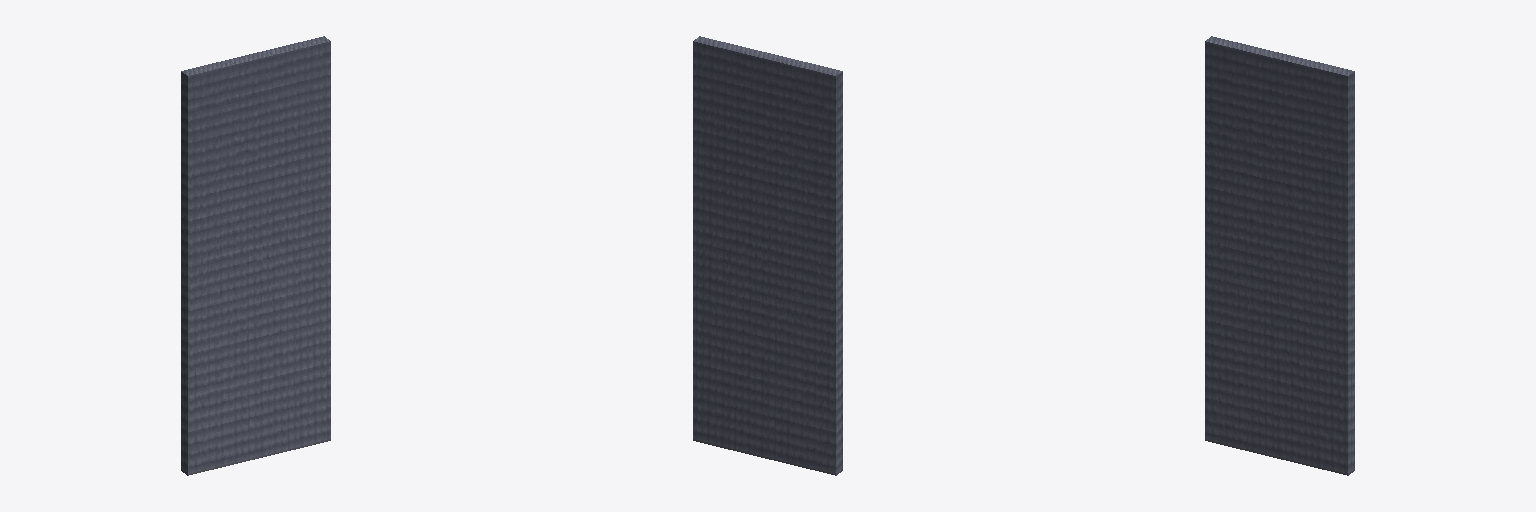
3 renders of one model, left to right at view 1: azimuth 30°, elevation 25°; view 2: azimuth 150°, elevation 25°; view 3: azimuth 330°, elevation 25°, orthographic.
Parts seen in each view (by area): view 1: Cube; view 2: Cube; view 3: Cube.
Boxes of the visible parts, x1=… form: Cube: x1=181, y1=36, x2=330, y2=475; Cube: x1=693, y1=36, x2=842, y2=475; Cube: x1=1205, y1=36, x2=1354, y2=475.
Bounding box in the file's own units: 0.6 × 1.6 × 0.05.
1 materials, 1 textured.